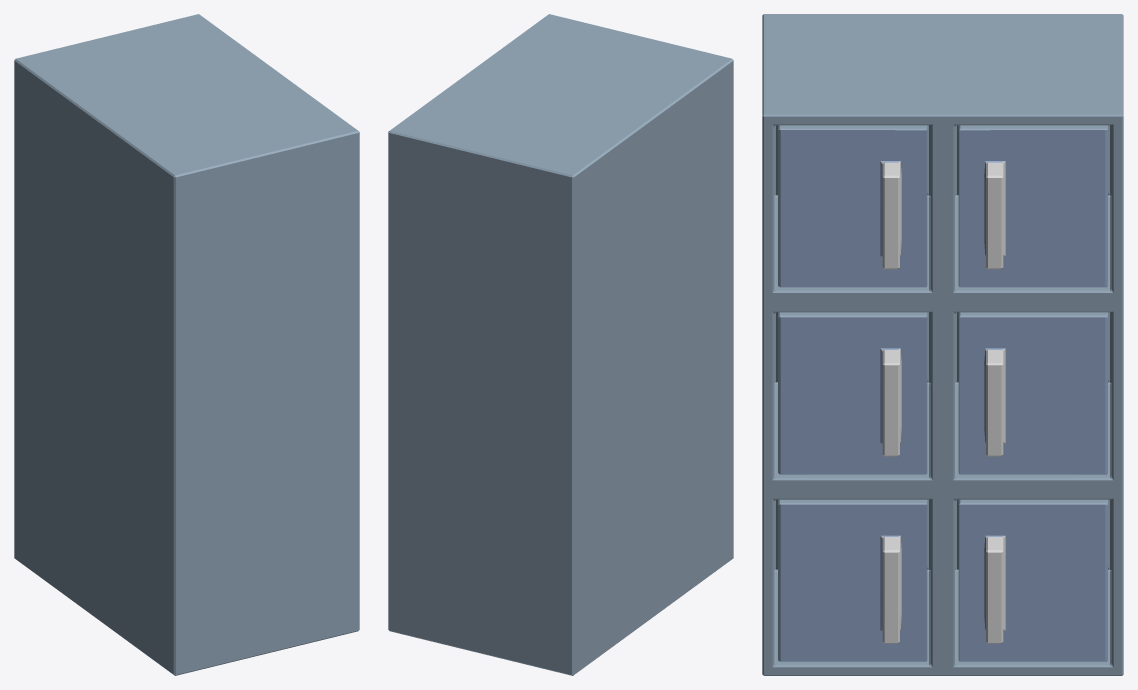
Rendered from 速食店.fbx_冰箱.fbx.
The picture shows the model from 3 angles, left to right: view 1: azimuth 30°, elevation 25°; view 2: azimuth 150°, elevation 25°; view 3: azimuth 270°, elevation 25°; orthographic projection. The views are drawn at different scales.
Parts seen in each view (by area): view 1: refrigerator; view 2: refrigerator; view 3: refrigerator.
Part boxes in pixels (bbox=[...]): refrigerator: bbox=[14, 14, 359, 675]; refrigerator: bbox=[388, 14, 733, 675]; refrigerator: bbox=[762, 14, 1123, 675].
Bounding box in the file's own units: 160 × 360 × 210.
